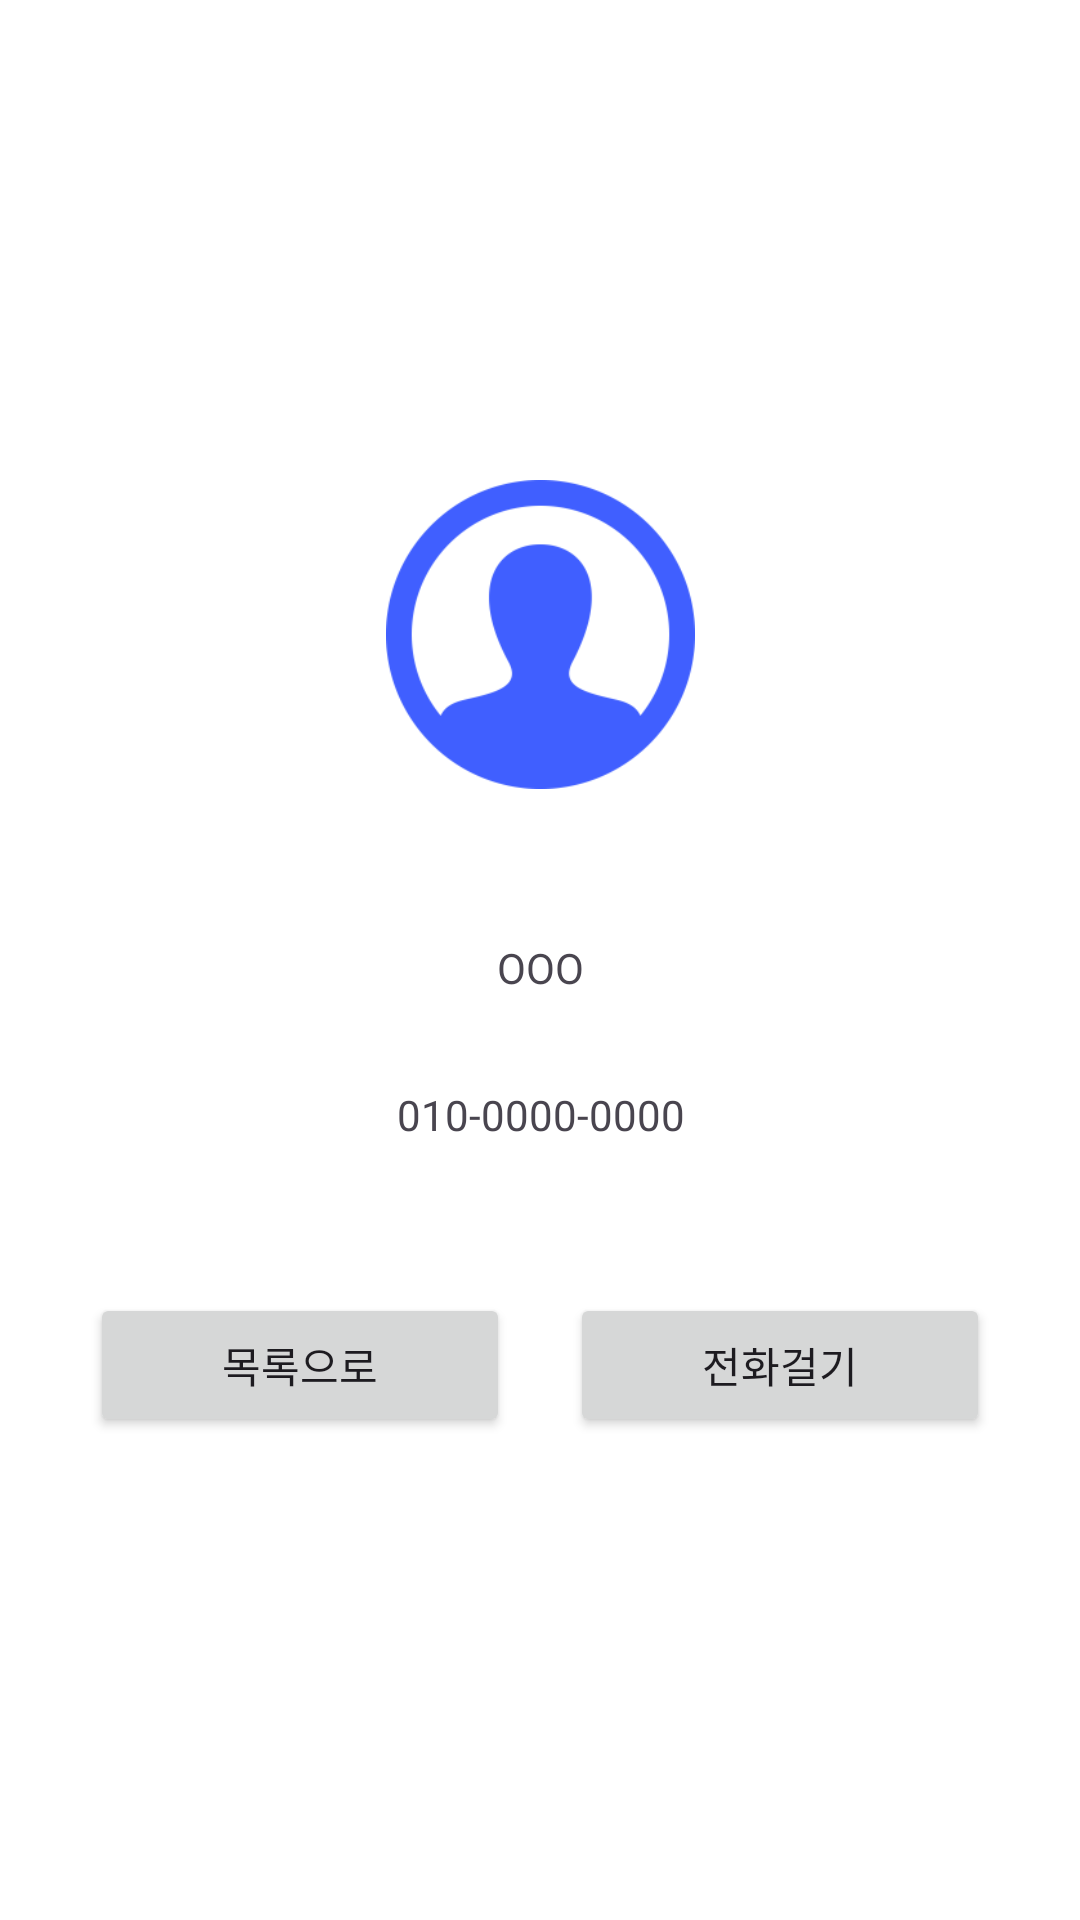

Screen size 1080*1920. Icon name, then its box in pixels as [x1, y1, x2, y2]:
profile: [386, 480, 695, 789]
